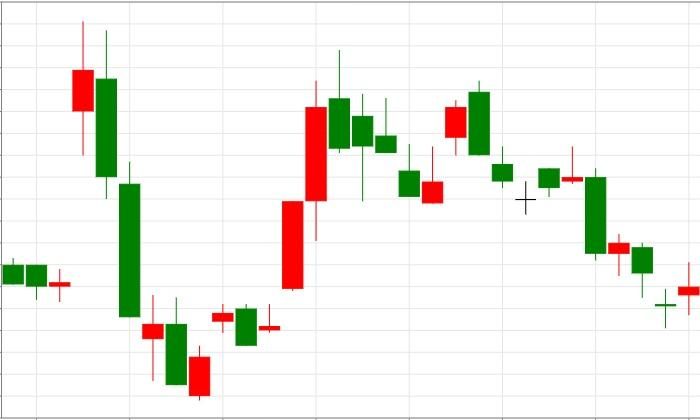inverse_hammer_rise: (329, 49, 443, 204)
